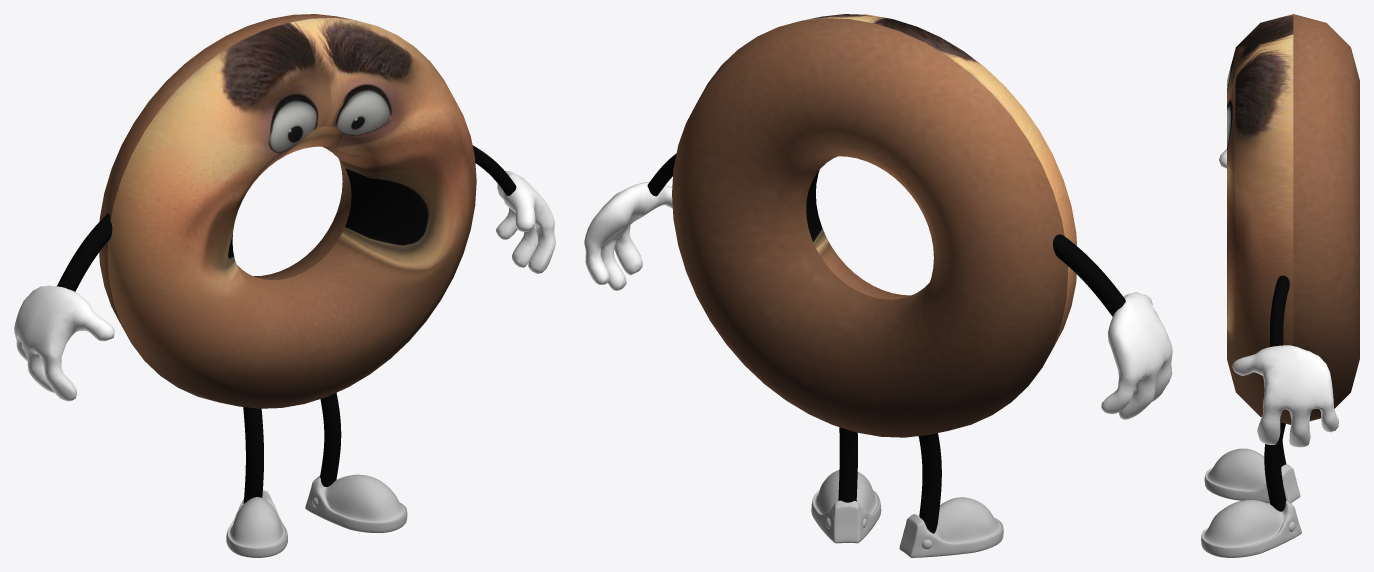
The model's file is donut.obj.
The picture shows the model from 3 angles, left to right: view 1: azimuth 30°, elevation 25°; view 2: azimuth 150°, elevation 25°; view 3: azimuth 270°, elevation 25°; orthographic projection. The views are drawn at different scales.
Visible parts, largest first — view 1: Torus.002, obj_ray_mesh_Rayman3_auv.001, Sphere.002_Sphere.000, Sphere.003_Sphere.005, Sphere.001_Sphere.003, Sphere.004_Sphere.006; view 2: Torus.002, obj_ray_mesh_Rayman3_auv.001, Sphere.003_Sphere.005, Sphere.002_Sphere.000, Sphere.001_Sphere.003; view 3: Torus.002, obj_ray_mesh_Rayman3_auv.001, Sphere.001_Sphere.003, Sphere.004_Sphere.006.
Part boxes in pixels (x1,y1,x2,y2): Torus.002: (99,14,476,408); obj_ray_mesh_Rayman3_auv.001: (14,171,555,557); Sphere.002_Sphere.000: (243,407,263,503); Sphere.003_Sphere.005: (57,213,112,291); Sphere.001_Sphere.003: (320,392,341,486); Sphere.004_Sphere.006: (472,145,516,195); Torus.002: (672,14,1076,437); obj_ray_mesh_Rayman3_auv.001: (584,182,1172,557); Sphere.003_Sphere.005: (1053,234,1125,316); Sphere.002_Sphere.000: (918,433,941,533); Sphere.001_Sphere.003: (838,427,857,502); Torus.002: (1227,14,1359,424); obj_ray_mesh_Rayman3_auv.001: (1201,149,1338,557); Sphere.001_Sphere.003: (1264,422,1286,511); Sphere.004_Sphere.006: (1270,275,1289,346).
Size of the model in its own units: 2.51 by 2.25 by 0.6681.
3 materials, 3 textured.
